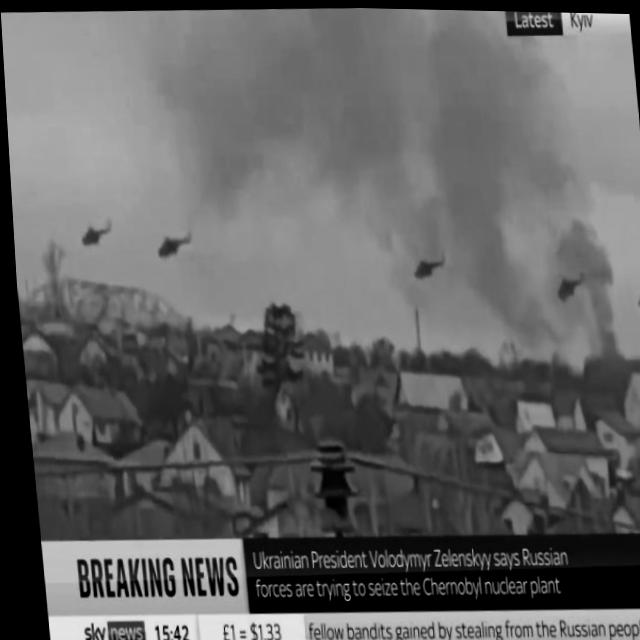helikopter: (394, 224, 453, 297), (142, 218, 202, 277), (545, 239, 591, 312), (66, 200, 115, 258), (624, 245, 640, 319)
